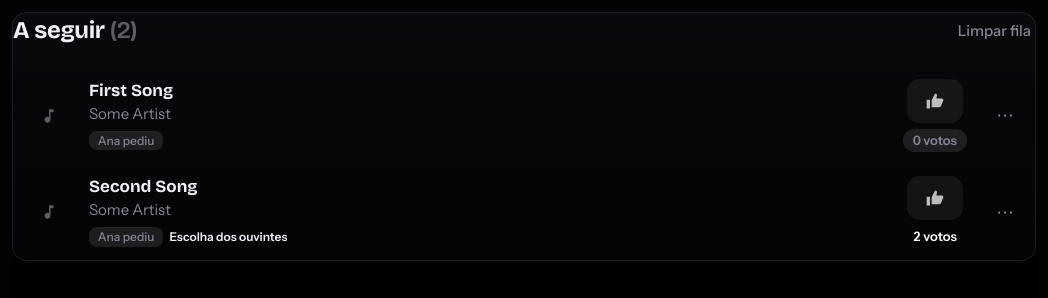
Test: QueuePanel voting (F4) › does not mark voted when the RPC fails and surfaces the error inline
Click the button named "Votar" in the row of "First Song" at (935, 101), box [907, 79, 963, 123]
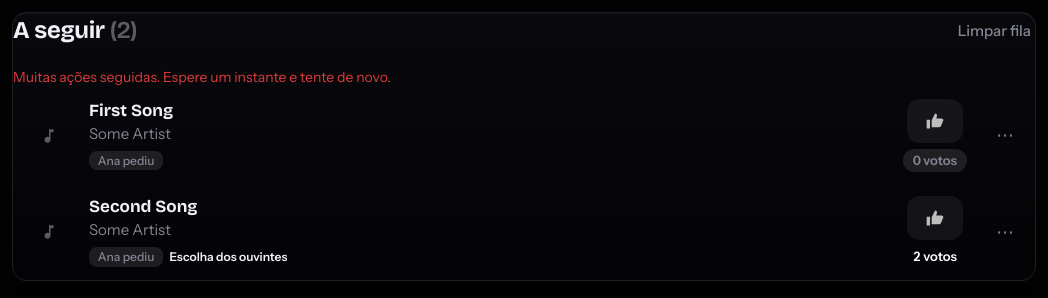
Result: the message shows "Muitas ações" at [13, 68, 391, 86]
